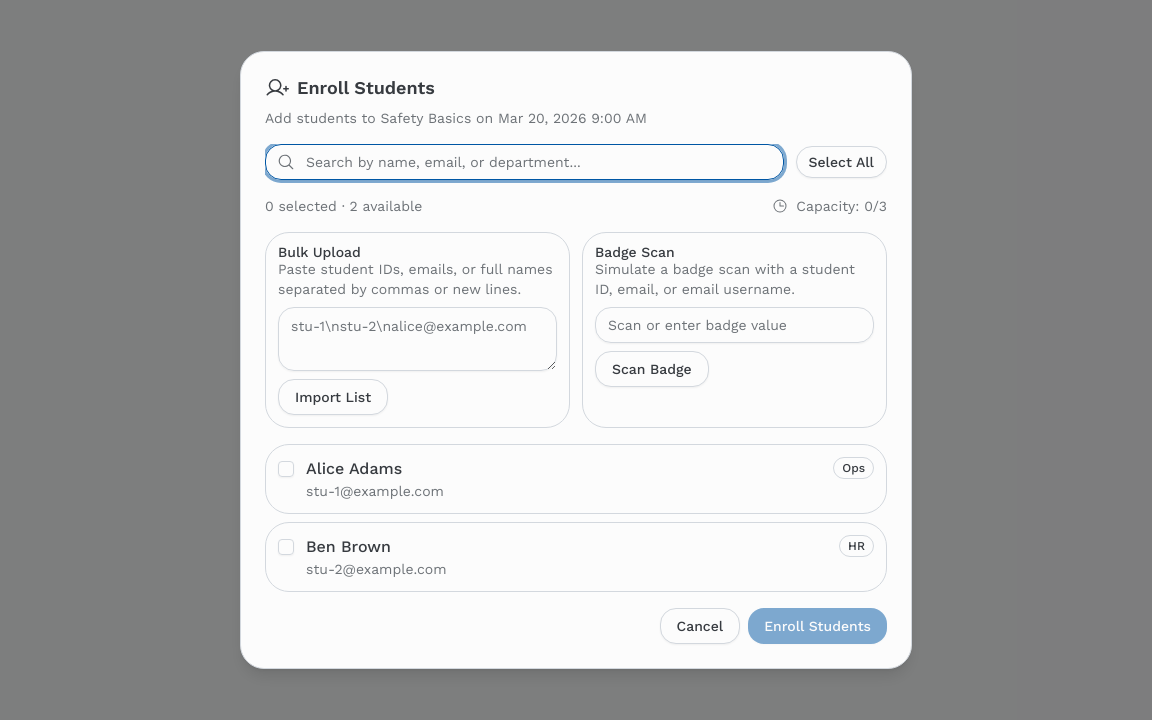
EnrollStudentsDialog › filters students by search query
Step 1. Type "alice" into the field with placeholder "Search by name, email, or department..." → [524, 162], box left=265, top=144, right=784, bottom=180
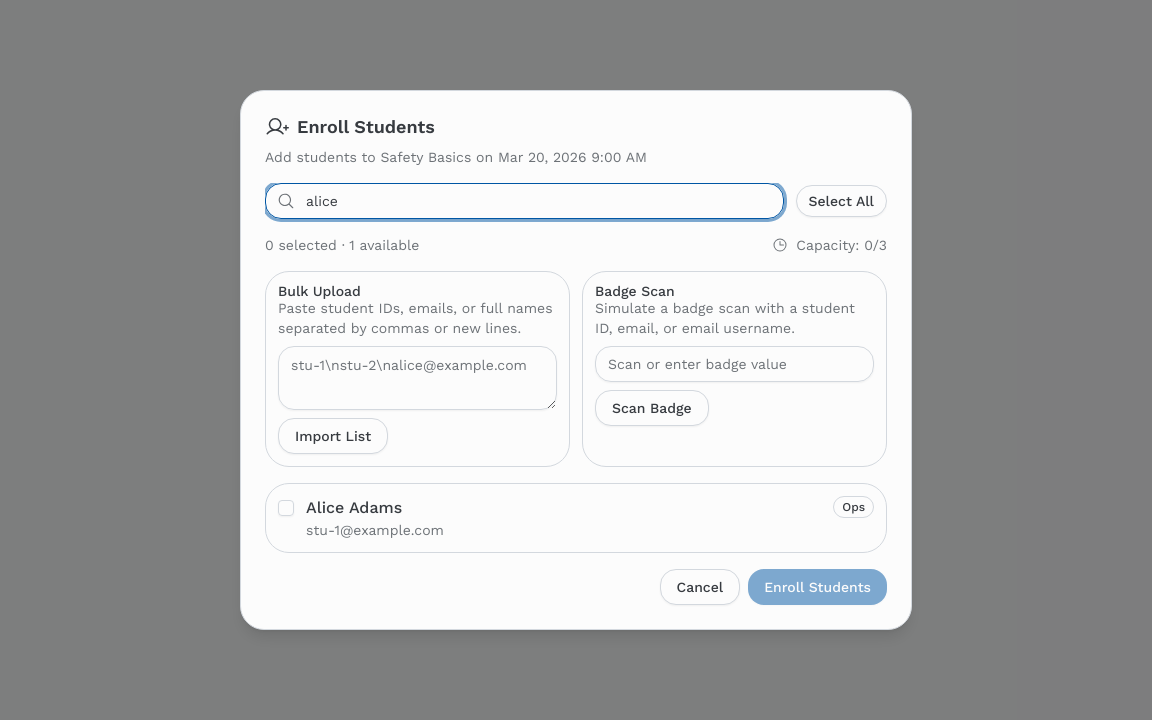
expect the text "Alice Adams" is shown: met, box left=306, top=498, right=402, bottom=517
expect the text "Ben Brown" is gone: met
